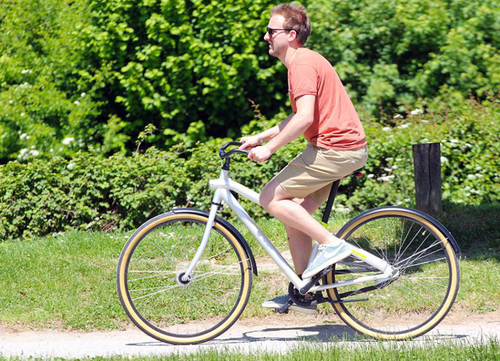bikerider: (116, 5, 461, 347)
